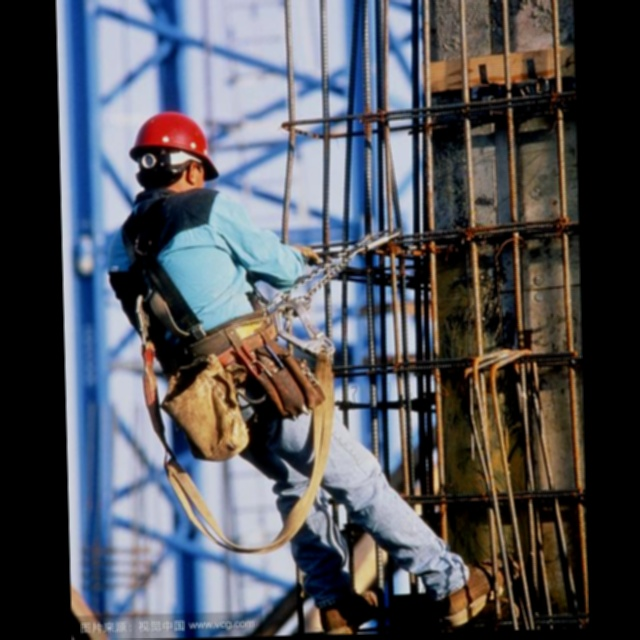Con_Casco: (133, 110, 217, 195)
